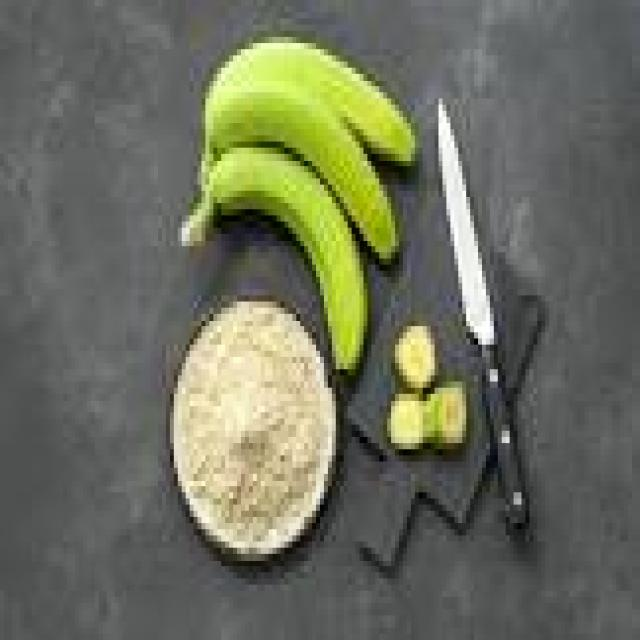banana: (182, 148, 367, 369), (206, 81, 399, 264), (210, 37, 414, 166)
